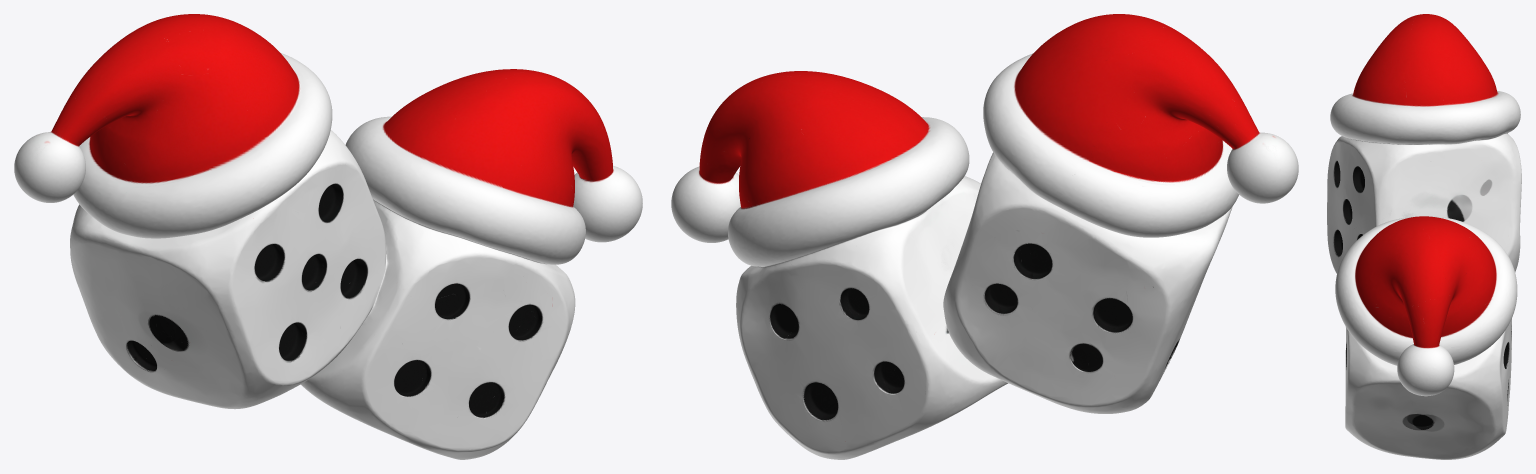
The model's file is dice.glb.
3 views of the same model, side by side, from view 1: azimuth 30°, elevation 25°; view 2: azimuth 150°, elevation 25°; view 3: azimuth 270°, elevation 25° (orthographic). The views are drawn at different scales.
Bounding box in the file's own units: 1.9 × 1.41 × 0.7349.
Materials: 1 (1 with a texture image).
